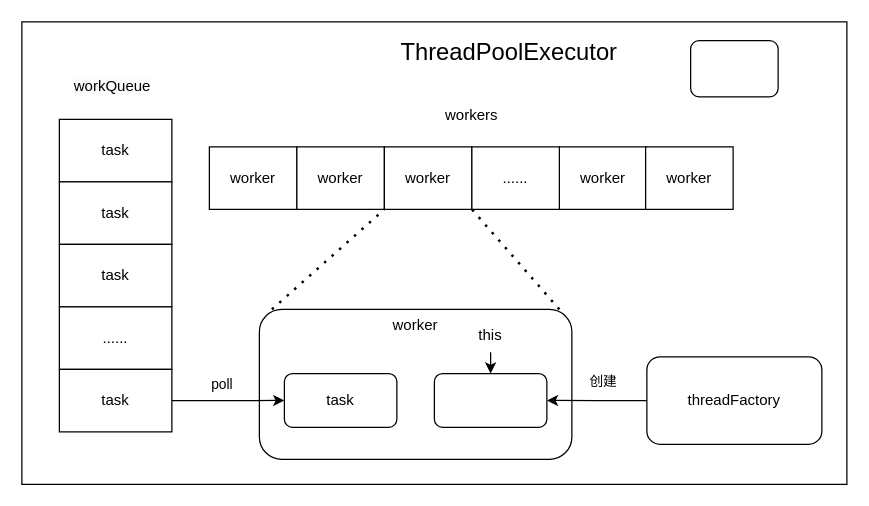
This 869x506 diagram has some shape labels left out. The shapes that lost their labels are listed below. From the top down, each one's centre as x and y in pixels, then its label:
At (733,68): "ctl".
At (490,399): "thread".
